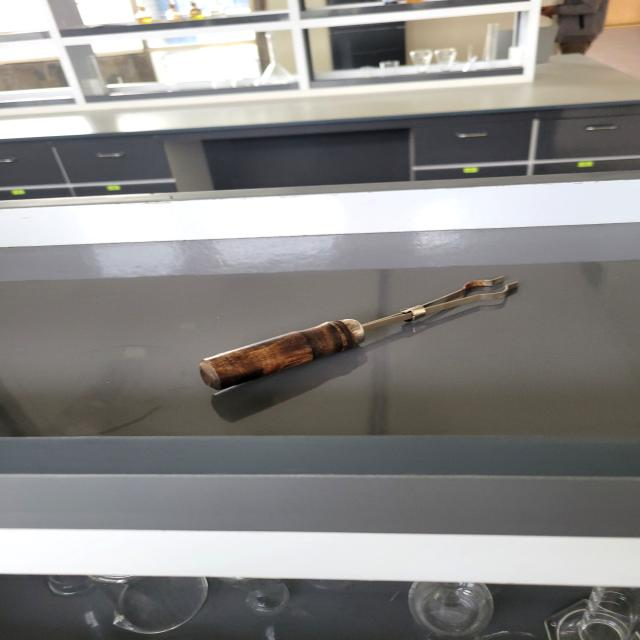TestTube_Holder: (166, 264, 536, 393)
